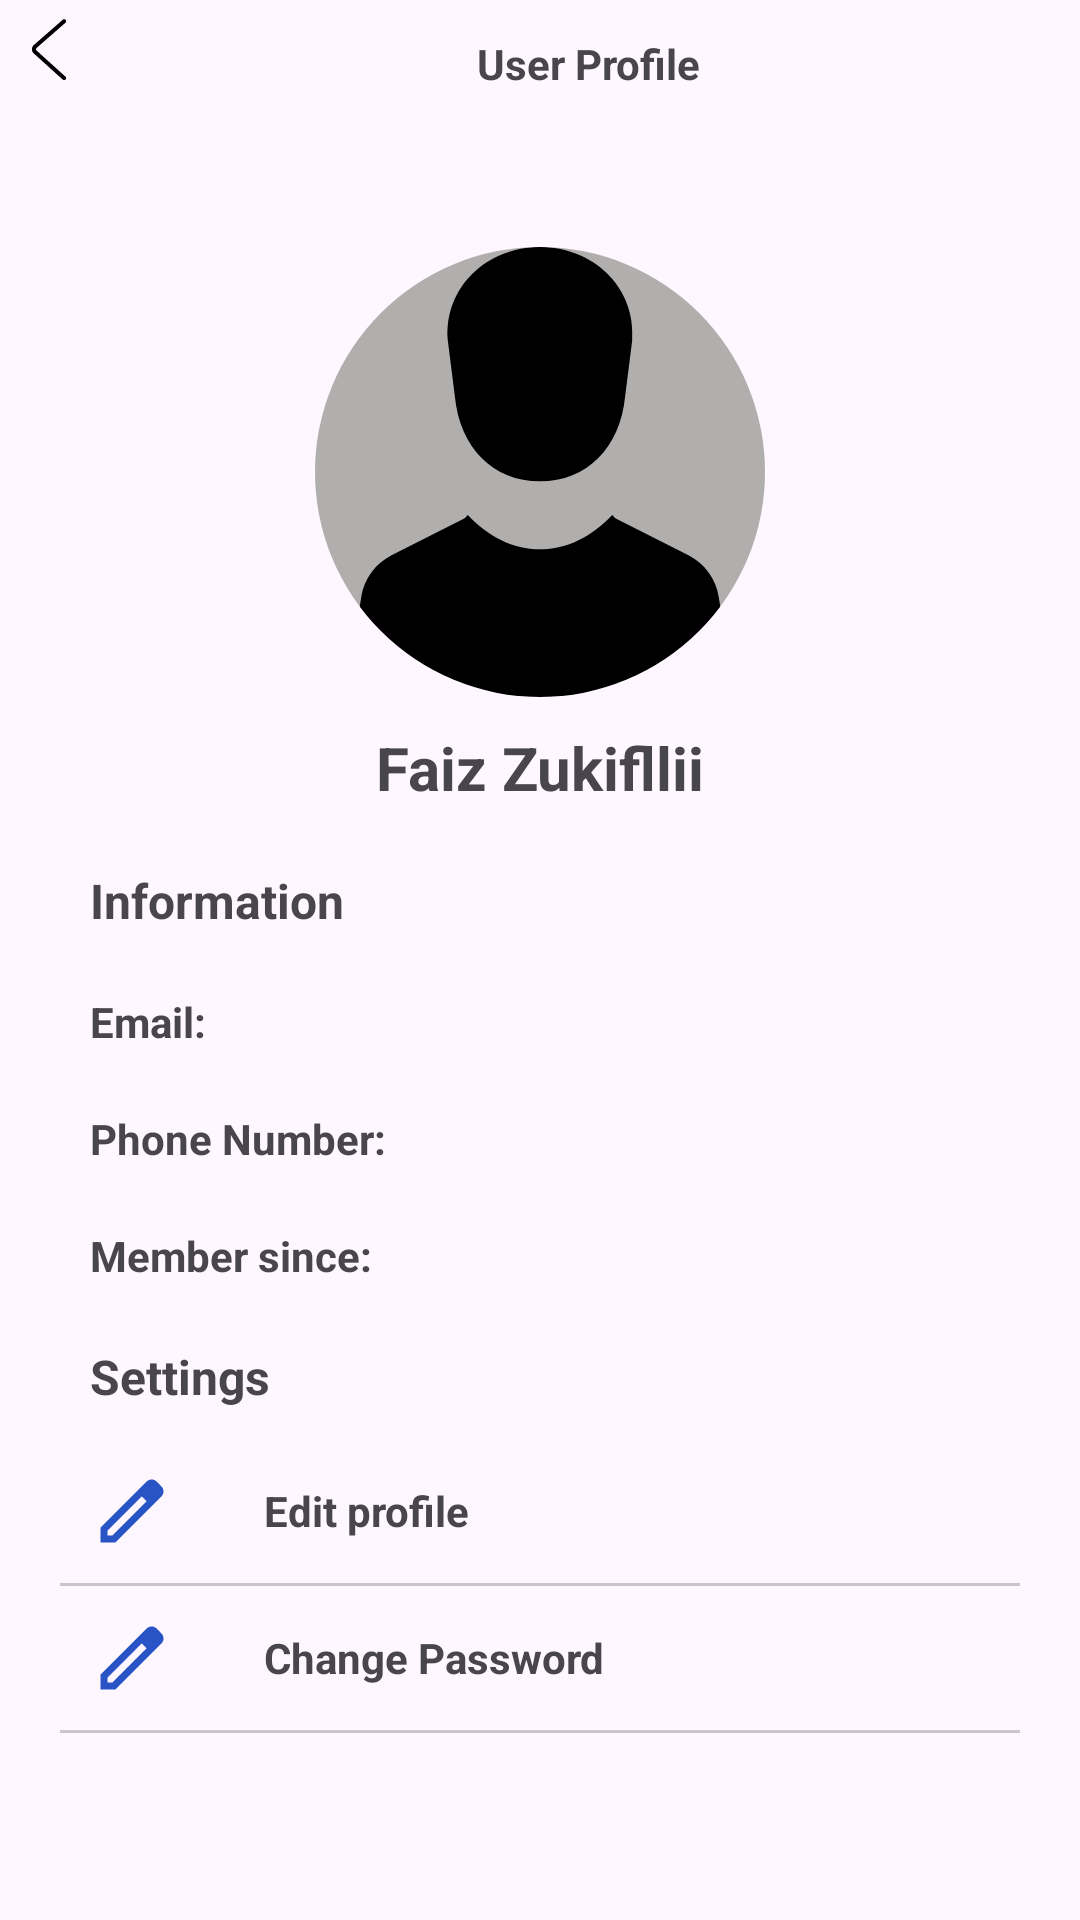

Named icons in this screenshot (1080*1920) and their bounding boxes, (x1, y1, x2, y2):
back: (32, 19, 66, 80)
